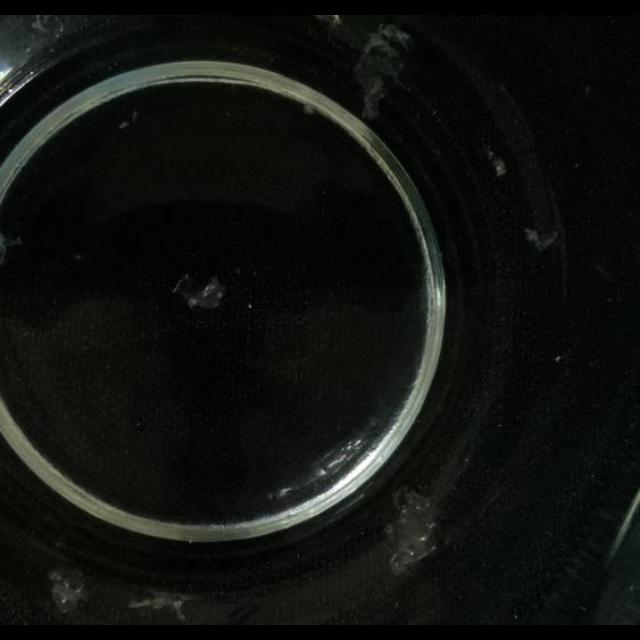Fibre: (354, 24, 414, 120), (386, 488, 440, 576), (130, 588, 192, 620), (177, 274, 225, 312), (50, 572, 88, 616), (524, 224, 556, 250), (32, 15, 62, 35), (486, 152, 506, 178), (118, 111, 138, 129), (303, 101, 319, 115)
